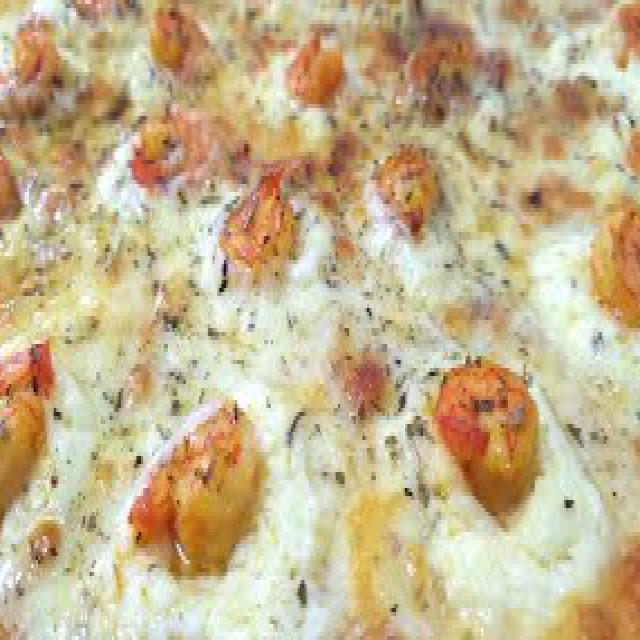camarao: (124, 398, 264, 598), (436, 347, 538, 520), (0, 340, 52, 525)
pizza: (0, 0, 638, 636)
